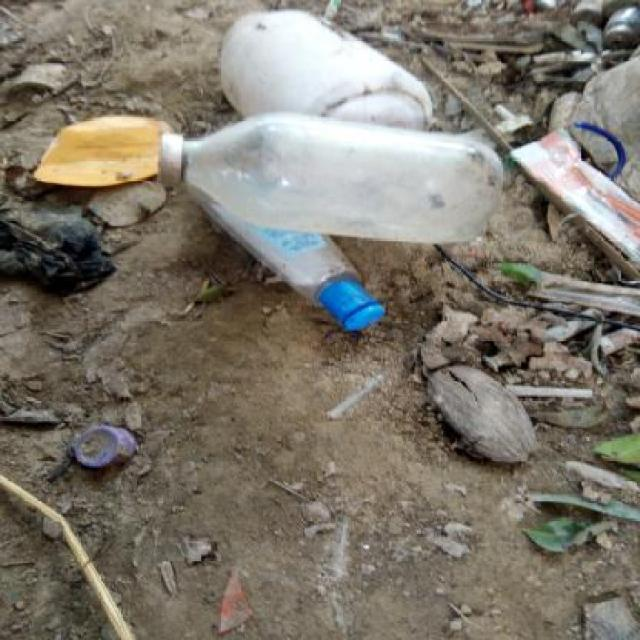garbage: (168, 133, 450, 352), (214, 6, 492, 179), (503, 128, 640, 314), (400, 352, 554, 474), (51, 108, 167, 212), (0, 199, 103, 279)
